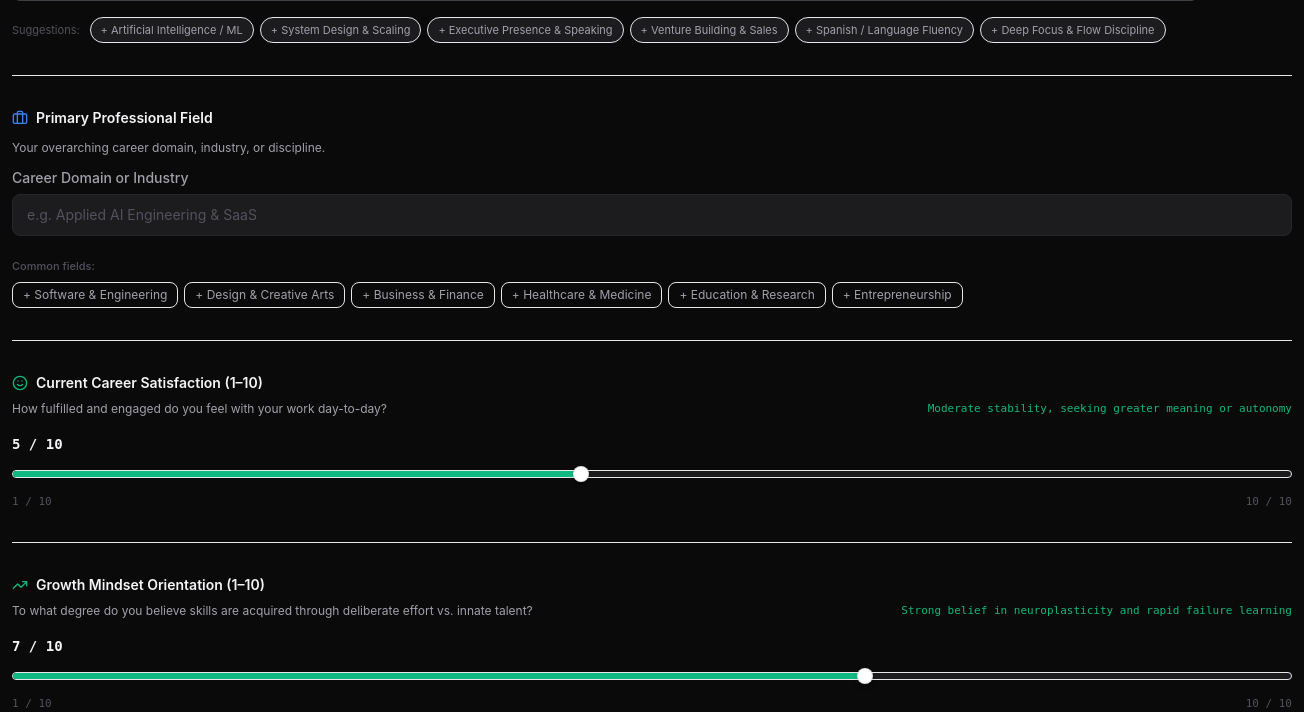
Test: SkillsStep Component › updates growth mindset rating and displays dynamic note
(page scrolled)
Set the slider named "growth mindset orientation rating from 1 to 10" to "10". click: [652, 670]
box: [12,628,1292,711]
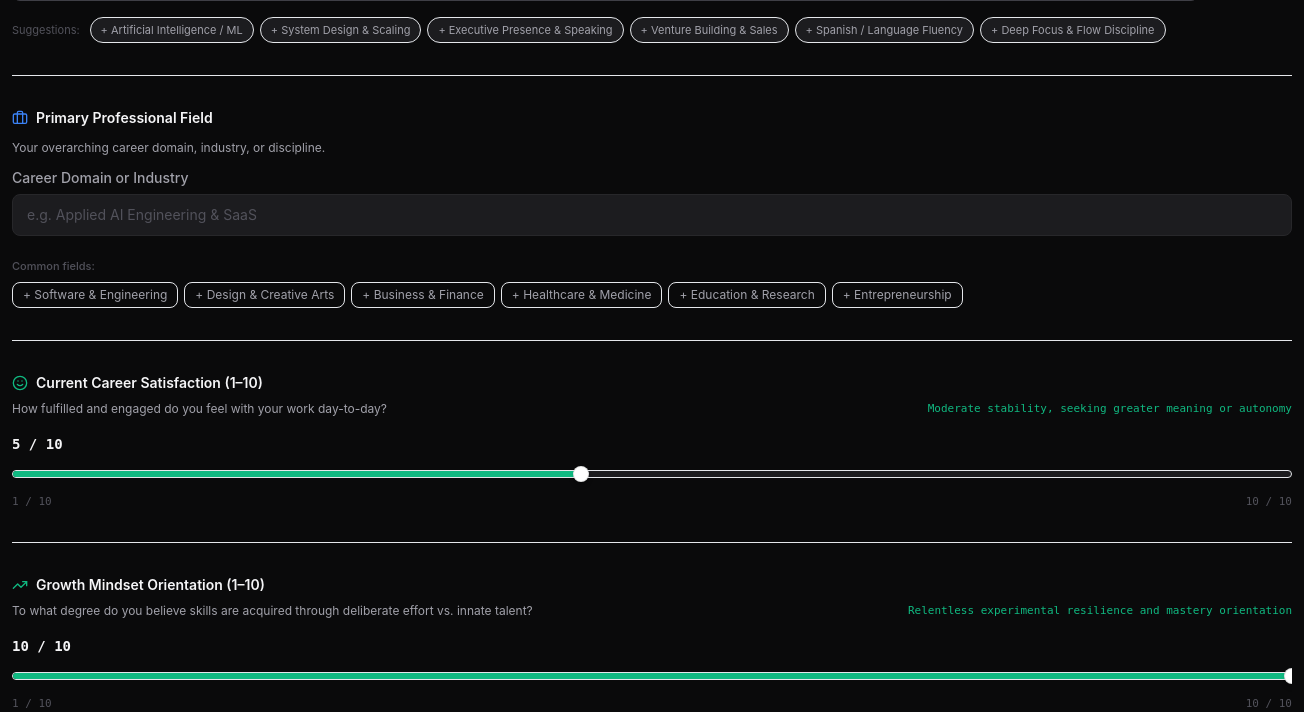
expect the text "Relentless experimental resilience and mastery orientation" is shown: met, box [908,603,1292,620]
